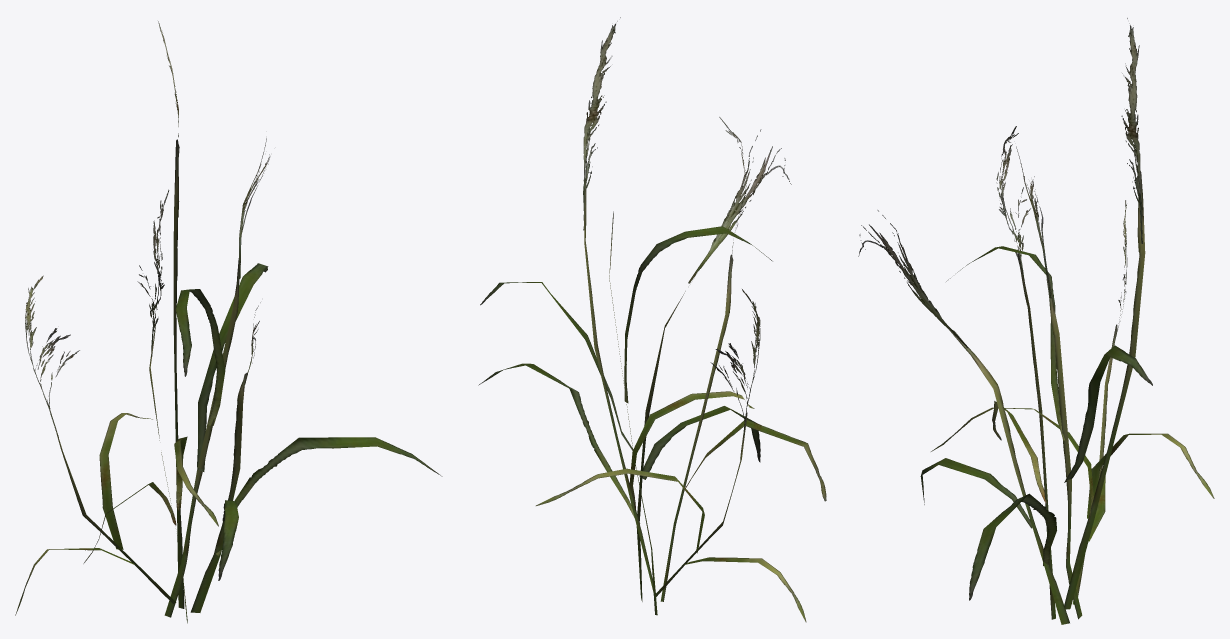
The model's file is grass_medium_01_tall_c_LOD1.glb.
3 renders of one model, left to right at view 1: azimuth 30°, elevation 25°; view 2: azimuth 150°, elevation 25°; view 3: azimuth 270°, elevation 25°, orthographic. The views are drawn at different scales.
Visible parts, largest first — view 1: grass_medium_01_tall_c_LOD1__lod0; view 2: grass_medium_01_tall_c_LOD1__lod0; view 3: grass_medium_01_tall_c_LOD1__lod0.
Part boxes in pixels (left/top/right/bottom): grass_medium_01_tall_c_LOD1__lod0: left=15, top=21, right=442, bottom=623; grass_medium_01_tall_c_LOD1__lod0: left=478, top=17, right=826, bottom=622; grass_medium_01_tall_c_LOD1__lod0: left=858, top=18, right=1214, bottom=624.
Size of what is drawn, in the model's own units: 0.1509 by 0.2262 by 0.1208.
Materials: 1 (1 with a texture image).
